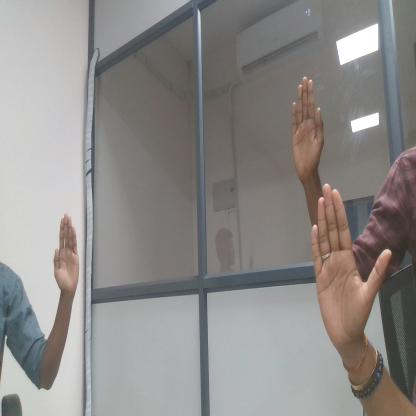Stop: (305, 182, 370, 345), (282, 77, 327, 174), (50, 213, 88, 305)
